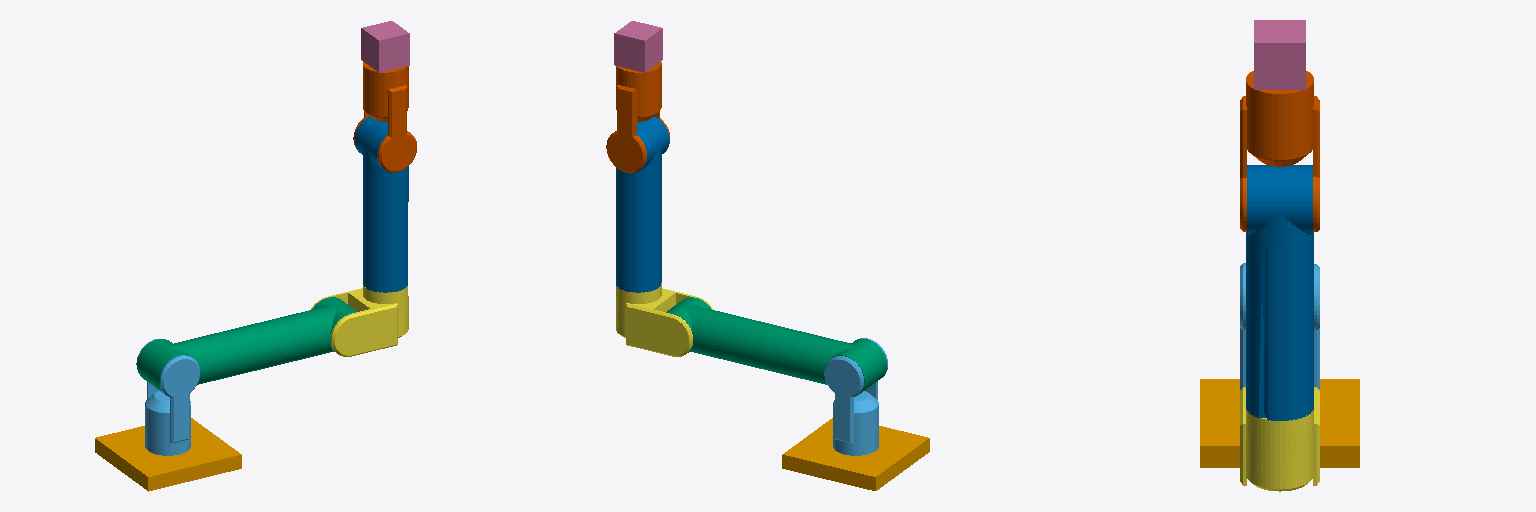
URDF robot description (nbv):
<?xml version="1.0" ?>
<!-- =================================================================================== -->
<!-- |    This document was autogenerated by xacro from [local-path]/ssl_robots/nbv/urdf/nbv.urdf.xacro | -->
<!-- |    EDITING THIS FILE BY HAND IS NOT RECOMMENDED                                 | -->
<!-- =================================================================================== -->
<robot name="nbv">
  <!-- Base -->
  <link name="base_link">
    <visual>
      <origin rpy="0 0 0" xyz="0 0 0"/>
      <geometry>
        <mesh filename="package://ssl_robots_pkg/ssl_robots/nbv/urdf/stl/mount.stl"/>
      </geometry>
    </visual>
    <collision>
      <origin rpy="0 0 0" xyz="0 0 0"/>
      <geometry>
        <mesh filename="package://ssl_robots_pkg/ssl_robots/nbv/urdf/stl/mount.stl"/>
      </geometry>
    </collision>
    <inertial>
      <mass value="0.1" />
      <inertia ixx="0.03" iyy="0.03" izz="0.03" ixy="0.0" ixz="0.0" iyz="0.0" />
    </inertial>
  </link>
  <!-- Base-Seg1 -->
  <link name="base-seg1">
    <visual>
      <origin rpy="0 0 -1.57079632679" xyz="0 0 -0.2491"/>
      <geometry>
        <mesh filename="package://ssl_robots_pkg/ssl_robots/nbv/urdf/stl/mount-seg1.stl"/>
      </geometry>
    </visual>
    <collision>
      <origin rpy="0 0 -1.57079632679" xyz="0 0 -0.2491"/>
      <geometry>
        <mesh filename="package://ssl_robots_pkg/ssl_robots/nbv/urdf/stl/mount-seg1.stl"/>
      </geometry>
    </collision>
    <inertial>
      <mass value="0.1"/>
      <inertia ixx="0.03" ixy="0.0" ixz="0.0" iyy="0.03" iyz="0.0" izz="0.03"/>
    </inertial>
  </link>
  <joint name="joint1" type="revolute">
    <parent link="base_link"/>
    <child link="base-seg1"/>
    <origin rpy="0 0 0" xyz="0 0 0.2872"/>
    <axis xyz="0 0 1"/>
    <limit effort="300" lower="-3.14159" upper="3.14159" velocity="0.25"/>
  </joint>
  <!-- Seg1 -->
  <link name="seg1">
    <visual>
      <origin rpy="0 1.57079632679 -1.57079632679" xyz="0 0 0"/>
      <geometry>
        <mesh filename="package://ssl_robots_pkg/ssl_robots/nbv/urdf/stl/seg1.stl"/>
      </geometry>
    </visual>
    <collision>
      <origin rpy="0 1.57079632679 -1.57079632679" xyz="0 0 0"/>
      <geometry>
        <mesh filename="package://ssl_robots_pkg/ssl_robots/nbv/urdf/stl/seg1.stl"/>
      </geometry>
    </collision>
    <inertial>
      <mass value="0.1"/>
      <inertia ixx="0.03" ixy="0.0" ixz="0.0" iyy="0.03" iyz="0.0" izz="0.03"/>
    </inertial>
  </link>
  <joint name="joint2" type="revolute">
    <parent link="base-seg1"/>
    <child link="seg1"/>
    <origin rpy="1.57079632679 0 0" xyz="0 0 0"/>
    <axis xyz="0 0 1"/>
    <limit effort="300" lower="-0.785" upper="3.925" velocity="0.25"/>
  </joint>
  <!-- Seg1-Seg2 -->
  <link name="seg1-seg2">
    <visual>
      <origin rpy="0 1.57079632679 0" xyz="0 0 0"/>
      <geometry>
        <mesh filename="package://ssl_robots_pkg/ssl_robots/nbv/urdf/stl/seg1-seg2.stl"/>
      </geometry>
    </visual>
    <collision>
      <origin rpy="0 1.57079632679 0" xyz="0 0 0"/>
      <geometry>
        <mesh filename="package://ssl_robots_pkg/ssl_robots/nbv/urdf/stl/seg1-seg2.stl"/>
      </geometry>
    </collision>
    <inertial>
      <mass value="0.1"/>
      <inertia ixx="0.03" ixy="0.0" ixz="0.0" iyy="0.03" iyz="0.0" izz="0.03"/>
    </inertial>
  </link>
  <joint name="joint3" type="revolute">
    <parent link="seg1"/>
    <child link="seg1-seg2"/>
    <origin rpy="3.14159265359 0 0" xyz="0.5589 0 0"/>
    <axis xyz="0 0 1"/>
    <limit effort="300" lower="-1.5707" upper="1.5707" velocity="0.25"/>
  </joint>
  <!-- Seg2 -->
  <link name="seg2">
    <visual>
      <origin rpy="0 0 1.57079632679" xyz="0 0 0.1"/>
      <geometry>
        <mesh filename="package://ssl_robots_pkg/ssl_robots/nbv/urdf/stl/seg2.stl"/>
      </geometry>
    </visual>
    <collision>
      <origin rpy="0 0 1.57079632679" xyz="0 0 0.1"/>
      <geometry>
        <mesh filename="package://ssl_robots_pkg/ssl_robots/nbv/urdf/stl/seg2.stl"/>
      </geometry>
    </collision>
    <inertial>
      <mass value="0.1"/>
      <inertia ixx="0.03" ixy="0.0" ixz="0.0" iyy="0.03" iyz="0.0" izz="0.03"/>
    </inertial>
  </link>
  <joint name="joint4" type="continuous">
    <parent link="seg1-seg2"/>
    <child link="seg2"/>
    <origin rpy="1.57079632679 0 0" xyz="0.15140 0 0"/>
    <axis xyz="0 0 1"/>
    <limit effort="300" lower="-3.14159" upper="3.14159" velocity="0.25"/>
  </joint>
  <!-- End -->
  <link name="end">
    <visual>
      <origin rpy="0 1.57079632679 -1.57079632679" xyz="0 0 0"/>
      <geometry>
        <mesh filename="package://ssl_robots_pkg/ssl_robots/nbv/urdf/stl/end.stl"/>
      </geometry>
    </visual>
    <collision>
      <origin rpy="0 1.57079632679 -1.57079632679" xyz="0 0 0"/>
      <geometry>
        <mesh filename="package://ssl_robots_pkg/ssl_robots/nbv/urdf/stl/end.stl"/>
      </geometry>
    </collision>
    <inertial>
      <mass value="0.1"/>
      <inertia ixx="0.03" ixy="0.0" ixz="0.0" iyy="0.03" iyz="0.0" izz="0.03"/>
    </inertial>
  </link>
  <joint name="joint5" type="revolute">
    <parent link="seg2"/>
    <child link="end"/>
    <origin rpy="-1.57079632679 0 0" xyz="0 0 0.5388"/>
    <axis xyz="0 0 1"/>
    <limit effort="300" lower="-1.78" upper="1.78" velocity="0.25"/>
  </joint>
  <!-- Manipulator -->
  <!-- Another joint for the rotation of whatever is attached to the end of NBV.
    As there is no model for this, it's currently just a big cube when uncommented. -->
  <link name="manip">
    <visual>
      <origin rpy="0 0 0" xyz="0 0 0"/>
      <geometry>
        <box size="0.1 0.1 0.1"/>
      </geometry>
    </visual>
    <collision>
      <origin rpy="0 0 0" xyz="0 0 0"/>
      <geometry>
        <box size="0.1 0.1 0.1"/>
      </geometry>
    </collision>
    <inertial>
      <mass value="0.1"/>
      <inertia ixx="0.03" ixy="0.0" ixz="0.0" iyy="0.03" iyz="0.0" izz="0.03"/>
    </inertial>
  </link>
  <joint name="joint6" type="continuous">
    <parent link="end"/>
    <child link="manip"/>
    <origin rpy="1.57079632679 0 0" xyz="0 -0.3 0"/>
    <axis xyz="0 0 1"/>
    <limit effort="300" lower="-6.28" upper="6.28" velocity="0.25"/>
  </joint>
</robot>

--- Facts derived from the render (not from the file) ---
The picture shows the robot from 3 angles, left to right: view 1: azimuth 30°, elevation 25°; view 2: azimuth 150°, elevation 25°; view 3: azimuth 270°, elevation 25°; orthographic projection.
Model nbv with 7 links and 6 joints (4 revolute, 2 continuous), rooted at base_link, posed every joint at zero.
Links seen in each view (by area): view 1: seg1, seg2, base_link, seg1-seg2, base-seg1, end, manip; view 2: seg1, seg2, base_link, base-seg1, seg1-seg2, end, manip; view 3: seg2, base_link, end, seg1-seg2, manip, base-seg1.
Link boxes in pixels (x1=…): seg1: x1=137, y1=297, x2=356, y2=392; seg2: x1=355, y1=116, x2=409, y2=292; base_link: x1=95, y1=418, x2=241, y2=491; seg1-seg2: x1=311, y1=285, x2=408, y2=356; base-seg1: x1=136, y1=339, x2=199, y2=455; end: x1=353, y1=61, x2=416, y2=172; manip: x1=361, y1=21, x2=409, y2=72; seg1: x1=666, y1=297, x2=886, y2=396; seg2: x1=616, y1=116, x2=669, y2=292; base_link: x1=782, y1=418, x2=929, y2=490; base-seg1: x1=824, y1=338, x2=887, y2=455; seg1-seg2: x1=616, y1=283, x2=712, y2=356; end: x1=606, y1=62, x2=669, y2=172; manip: x1=614, y1=21, x2=662, y2=72; seg2: x1=1246, y1=165, x2=1313, y2=420; base_link: x1=1200, y1=379, x2=1359, y2=467; end: x1=1240, y1=71, x2=1319, y2=231; seg1-seg2: x1=1240, y1=387, x2=1319, y2=491; manip: x1=1254, y1=20, x2=1305, y2=89; base-seg1: x1=1240, y1=263, x2=1319, y2=389.
Bounding box of the posed robot: 0.9277 × 0.3048 × 1.18 m (x, y, z).
Meshes: 6 distinct files referenced, 6 mesh visuals loaded (6 binary STL).